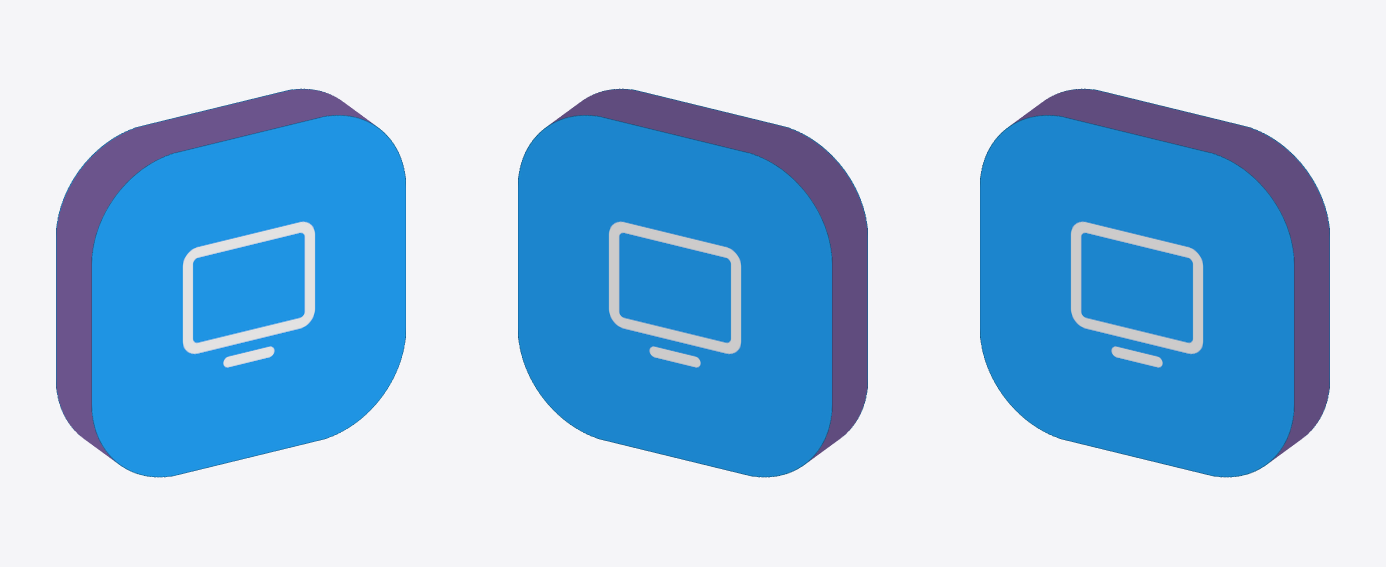
File: infoshop-ps2-save-icon.glb
3 renders of one model, left to right at view 1: azimuth 30°, elevation 25°; view 2: azimuth 150°, elevation 25°; view 3: azimuth 330°, elevation 25°, orthographic.
Parts seen in each view (by area): view 1: Front, Extrusion_07, Extrusion_10, Extrusion_02, Extrusion_09, Extrusion_00, Extrusion_08, Extrusion_01, Extrusion_03, Extrusion_11, Extrusion_06, Extrusion_05 (+3 smaller); view 2: Back, Extrusion_05, Extrusion_02, Extrusion_03, Extrusion_10, Extrusion_12, Extrusion_04, Extrusion_11, Extrusion_09, Extrusion_01, Extrusion_06, Extrusion_07 (+3 smaller); view 3: Front, Extrusion_02, Extrusion_07, Extrusion_10, Extrusion_09, Extrusion_00, Extrusion_08, Extrusion_01, Extrusion_03, Extrusion_06, Extrusion_11, Extrusion_05 (+3 smaller).
Boxes of the visible parts, box(x1,y1,x2,y2) form: Front: box(91, 115, 405, 477); Extrusion_07: box(76, 104, 362, 454); Extrusion_10: box(85, 110, 371, 460); Extrusion_02: box(62, 93, 348, 443); Extrusion_09: box(82, 108, 368, 457); Extrusion_00: box(56, 89, 342, 438); Extrusion_08: box(79, 106, 366, 454); Extrusion_01: box(59, 91, 345, 440); Extrusion_03: box(65, 95, 350, 444); Extrusion_11: box(88, 112, 373, 459); Extrusion_06: box(74, 101, 359, 450); Extrusion_05: box(71, 99, 357, 448); Back: box(518, 115, 832, 477); Extrusion_05: box(561, 104, 847, 454); Extrusion_02: box(552, 110, 838, 460); Extrusion_03: box(555, 108, 841, 457); Extrusion_10: box(575, 93, 861, 443); Extrusion_12: box(581, 89, 867, 438); Extrusion_04: box(557, 106, 844, 454); Extrusion_11: box(578, 91, 864, 440); Extrusion_09: box(573, 95, 858, 444); Extrusion_01: box(550, 112, 835, 459); Extrusion_06: box(564, 101, 849, 450); Extrusion_07: box(566, 99, 852, 448); Front: box(980, 115, 1294, 477); Extrusion_02: box(1037, 93, 1323, 443); Extrusion_07: box(1023, 104, 1309, 454); Extrusion_10: box(1015, 110, 1300, 460); Extrusion_09: box(1017, 108, 1303, 457); Extrusion_00: box(1043, 89, 1329, 438); Extrusion_08: box(1019, 106, 1306, 454); Extrusion_01: box(1040, 91, 1326, 440); Extrusion_03: box(1035, 95, 1320, 444); Extrusion_06: box(1026, 101, 1311, 450); Extrusion_11: box(1012, 112, 1297, 459); Extrusion_05: box(1028, 99, 1314, 448).
Size of the model in its own units: 1 by 1 by 0.156.
Materials: 2 (2 with a texture image).
